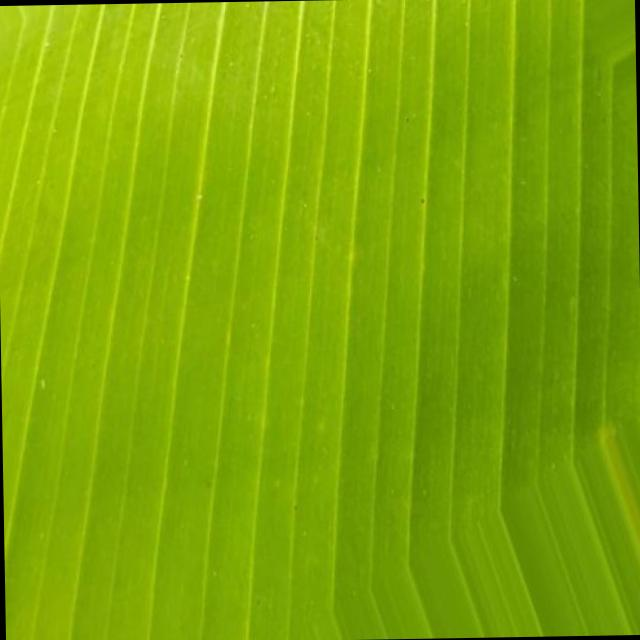Banana_Healthy: (114, 119, 532, 472)
